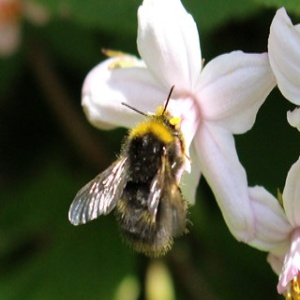bee: (66, 84, 202, 265)
